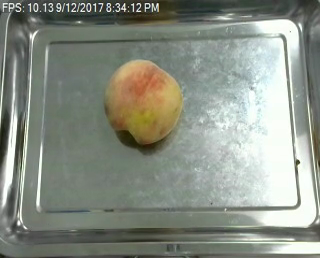Peach: (102, 59, 183, 145)
